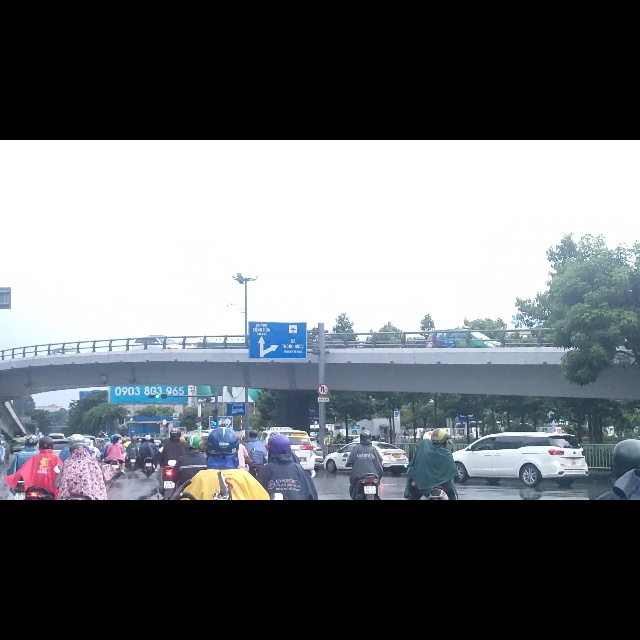bien_chi_dan: (317, 433, 329, 455)
